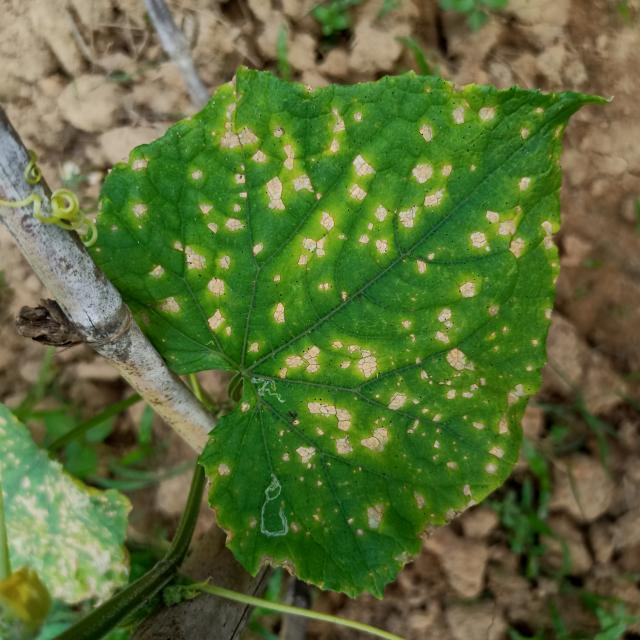disease_cucumber: (140, 81, 543, 563)
